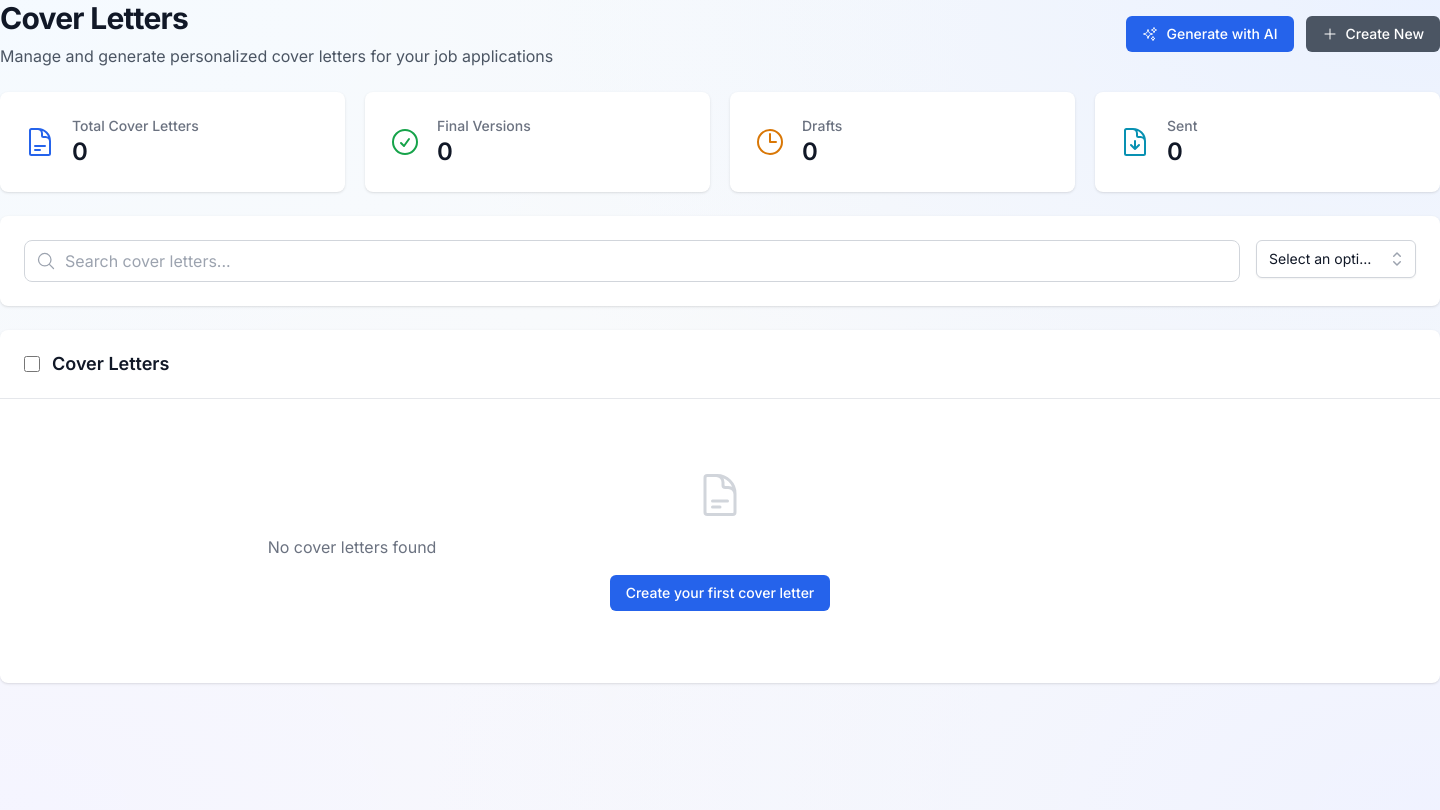
Test case: CoverLetters Page › opens create modal
Expected: the 1st heading "Cover Letters" is shown, [0,0,188,36]
Click the button "Create New" at {"x": 1373, "y": 34}, box [1306,16,1439,52]
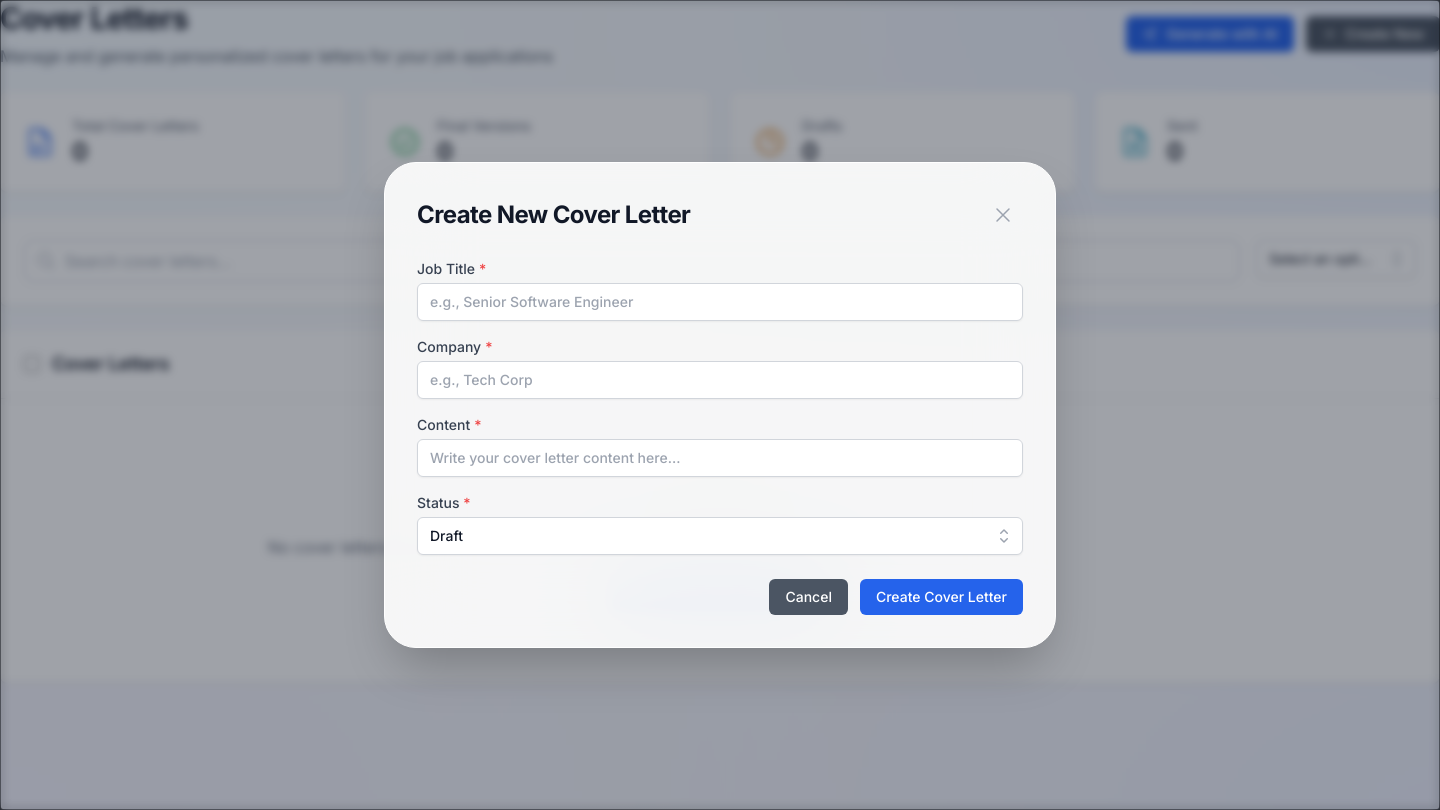
Result: the dialog "Create New Cover Letter" is shown
